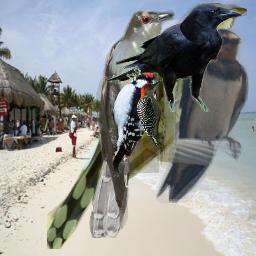Crow: (106, 3, 244, 112)
Cuckoo: (47, 3, 247, 249), (89, 7, 175, 238)
Swallow: (156, 28, 249, 203)
Woodpecker: (106, 66, 160, 173), (136, 80, 165, 146)
